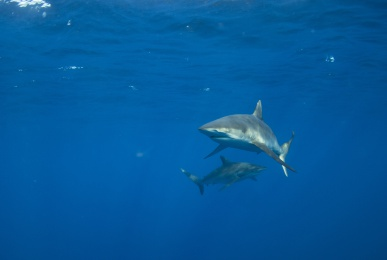Sedoso: (184, 97, 303, 181)
